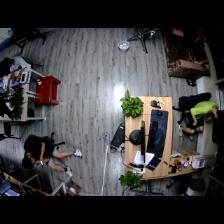normal: (21, 136, 83, 177), (178, 100, 220, 134), (1, 54, 31, 74)
